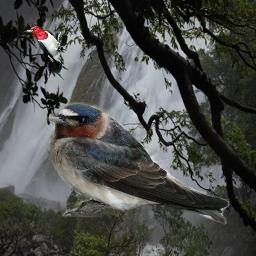Swallow: (43, 101, 231, 225)
Woodpecker: (23, 26, 64, 69)
